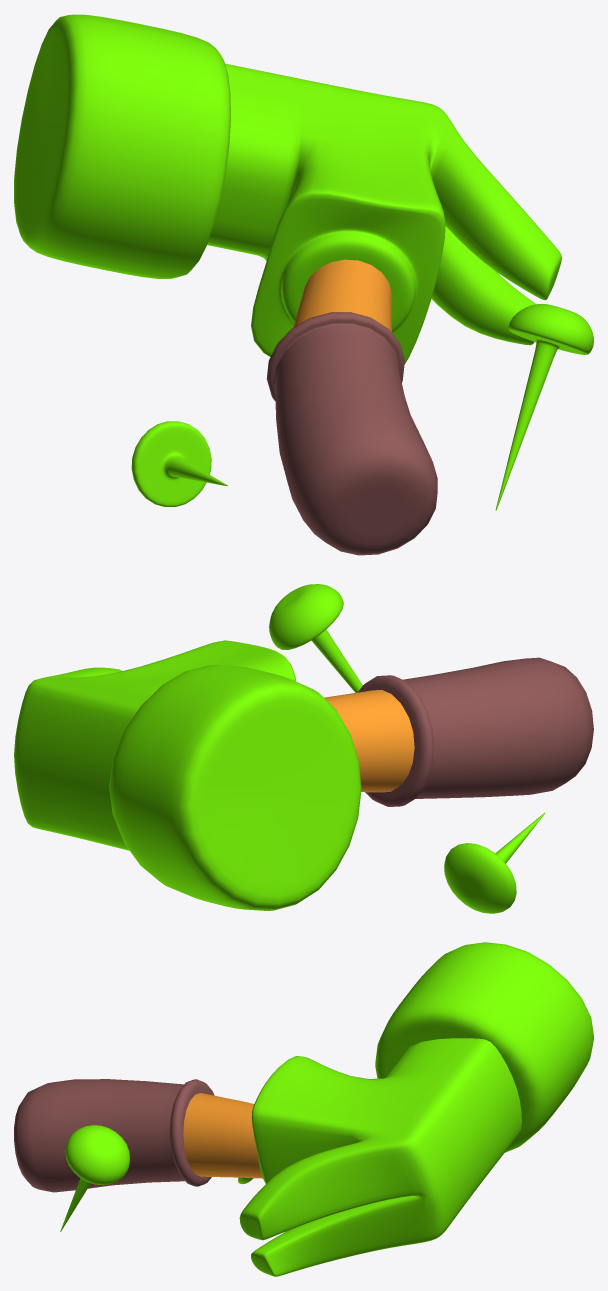
The model's file is ToyObject_053.fbx.
The picture shows the model from 3 angles, top to bottom: view 1: azimuth 30°, elevation 25°; view 2: azimuth 150°, elevation 25°; view 3: azimuth 270°, elevation 25°; orthographic projection. The views are drawn at different scales.
Visible parts, largest first — view 1: object-1.001; view 2: object-1.001; view 3: object-1.001.
Part boxes in pixels (x1,y1,x2,y2): object-1.001: [14, 14, 593, 555]; object-1.001: [14, 584, 593, 913]; object-1.001: [14, 942, 593, 1276].
Bounding box in the file's own units: 0.1324 × 0.0996 × 0.1991.
